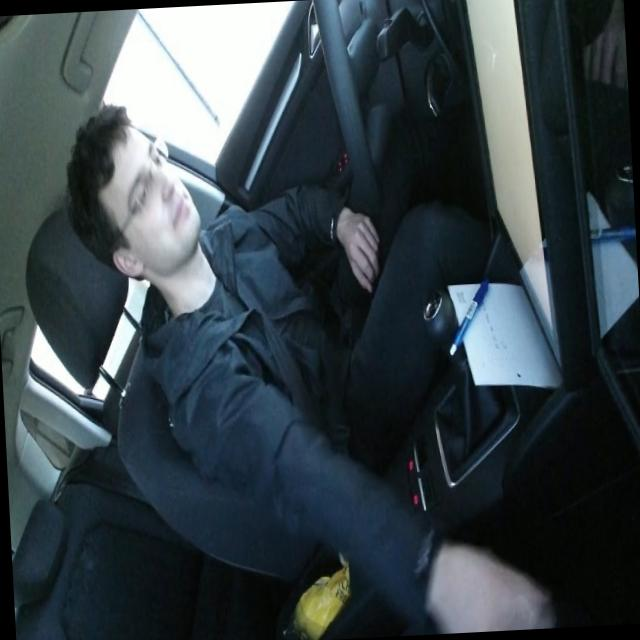pen: (446, 274, 494, 357)
